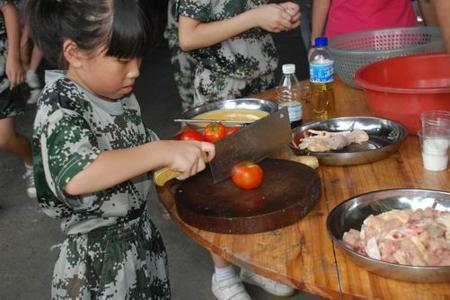person: (30, 2, 216, 299)
